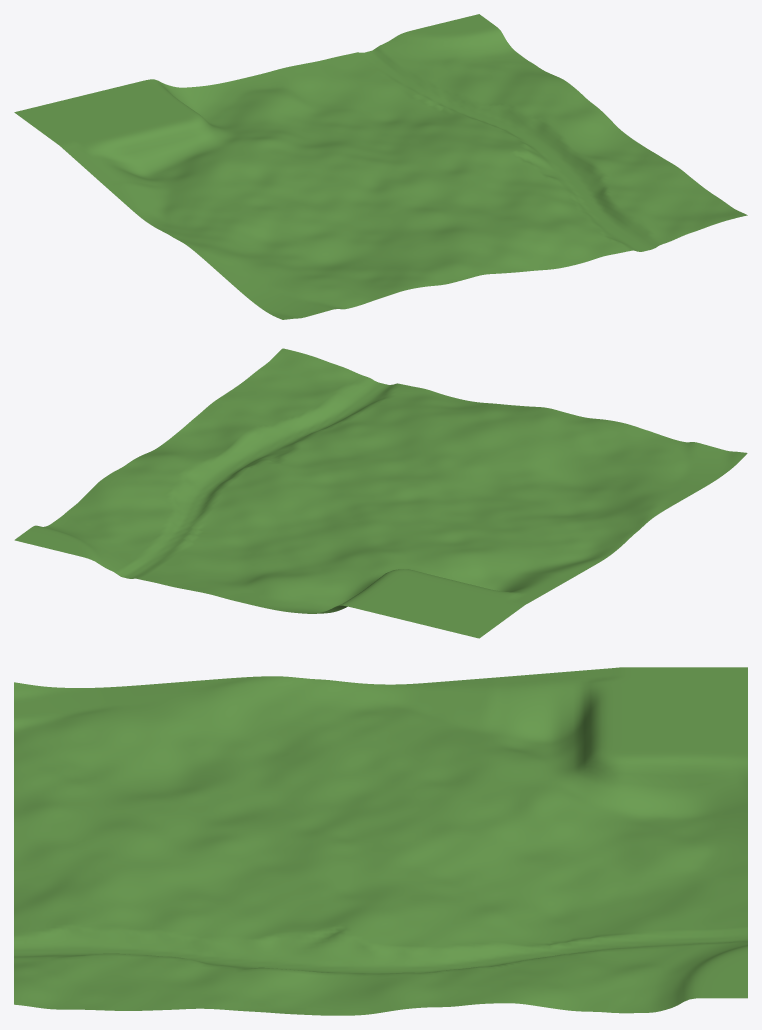
File: SM_Terrain_04_04.fbx
The picture shows the model from 3 angles, top to bottom: view 1: azimuth 30°, elevation 25°; view 2: azimuth 150°, elevation 25°; view 3: azimuth 270°, elevation 25°; orthographic projection. The views are drawn at different scales.
Parts seen in each view (by area): view 1: SM_Terrain_04_04; view 2: SM_Terrain_04_04; view 3: SM_Terrain_04_04.
Part boxes in pixels (left/top/right/bottom): SM_Terrain_04_04: left=14, top=14, right=747, bottom=319; SM_Terrain_04_04: left=14, top=348, right=747, bottom=638; SM_Terrain_04_04: left=14, top=667, right=747, bottom=1015.
Size of the model in its own units: 384 by 25.3 by 384.
